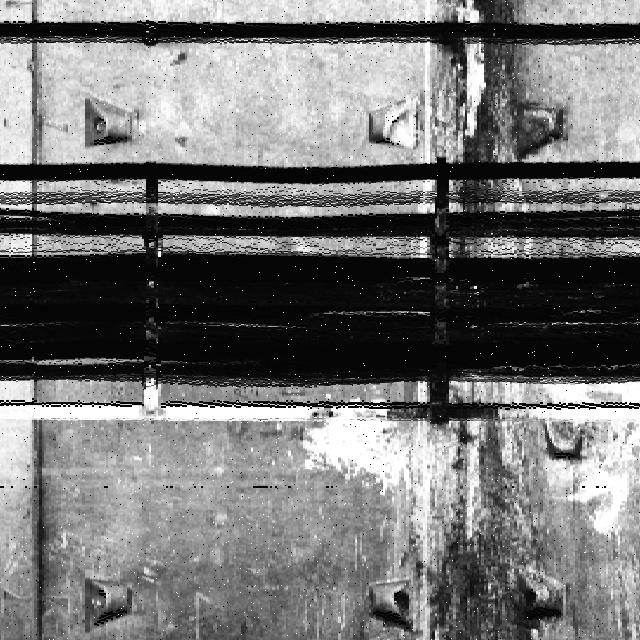leakage: (403, 384, 547, 640), (405, 1, 534, 253)
